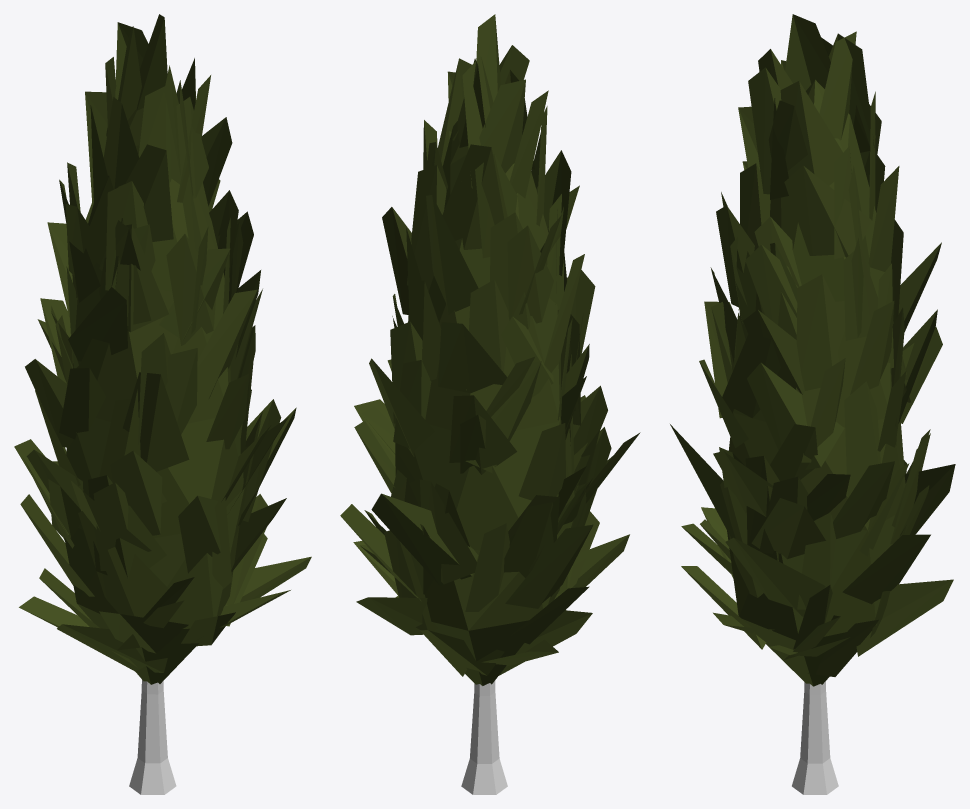
The model's file is SM_Tree_Cypress_Sapling_A.fbx.
3 renders of one model, left to right at view 1: azimuth 30°, elevation 25°; view 2: azimuth 150°, elevation 25°; view 3: azimuth 270°, elevation 25°, orthographic.
Visible parts, largest first — view 1: tree-cypress-sapling-a; view 2: tree-cypress-sapling-a; view 3: tree-cypress-sapling-a.
Boxes of the visible parts, x1,y1,x2,y2 form: tree-cypress-sapling-a: (14,14,311,794); tree-cypress-sapling-a: (340,14,640,794); tree-cypress-sapling-a: (670,14,955,794).
Size of the model in its own units: 0.6142 by 1.7 by 0.5713.
